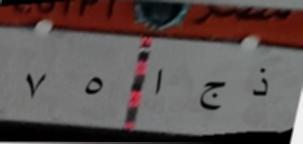5: (79, 71, 110, 104)
7: (24, 64, 50, 102)
alif: (151, 65, 166, 100)
jeem: (198, 72, 227, 117)
zaal: (245, 56, 272, 105)
